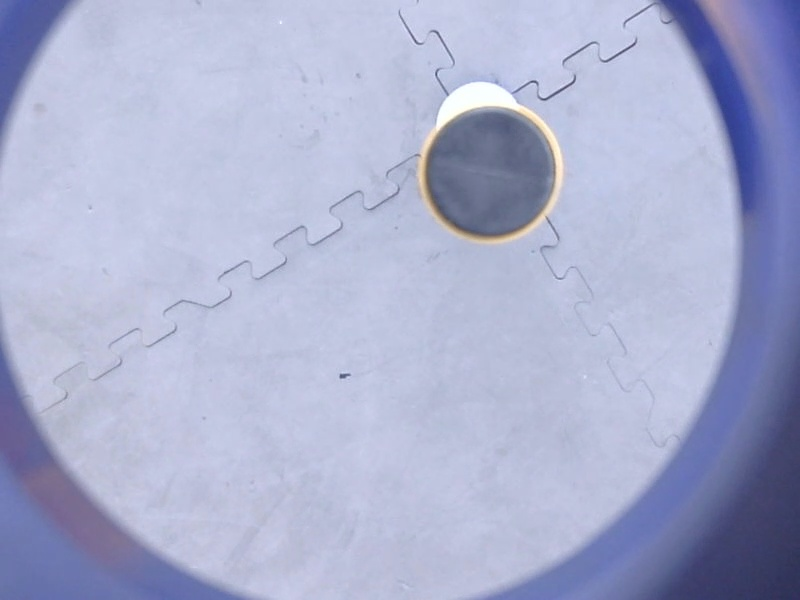tip: (407, 93, 572, 253)
